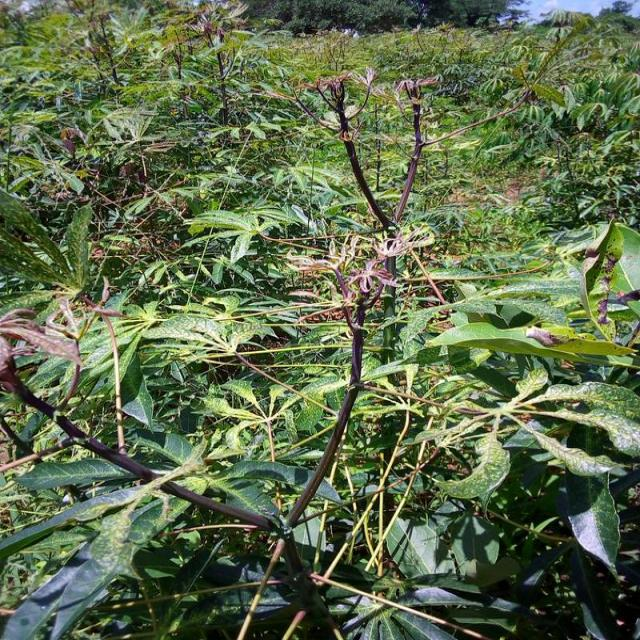cassava leaf: (0, 3, 638, 638)
